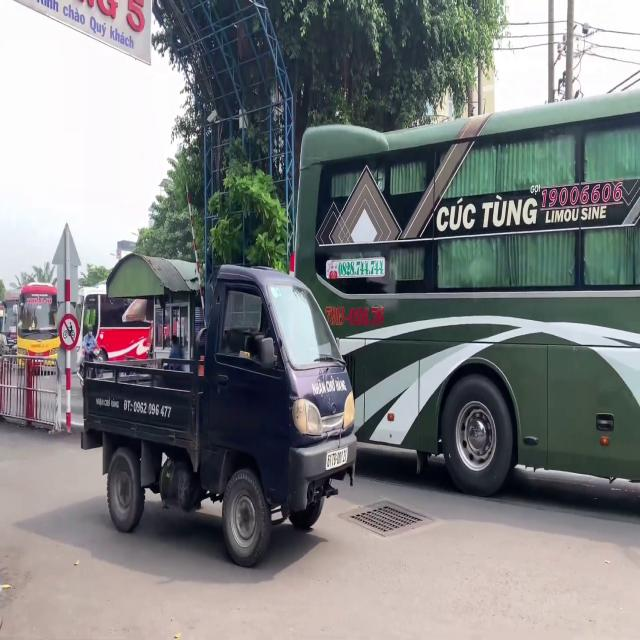bien_trang: (326, 448, 349, 470)
